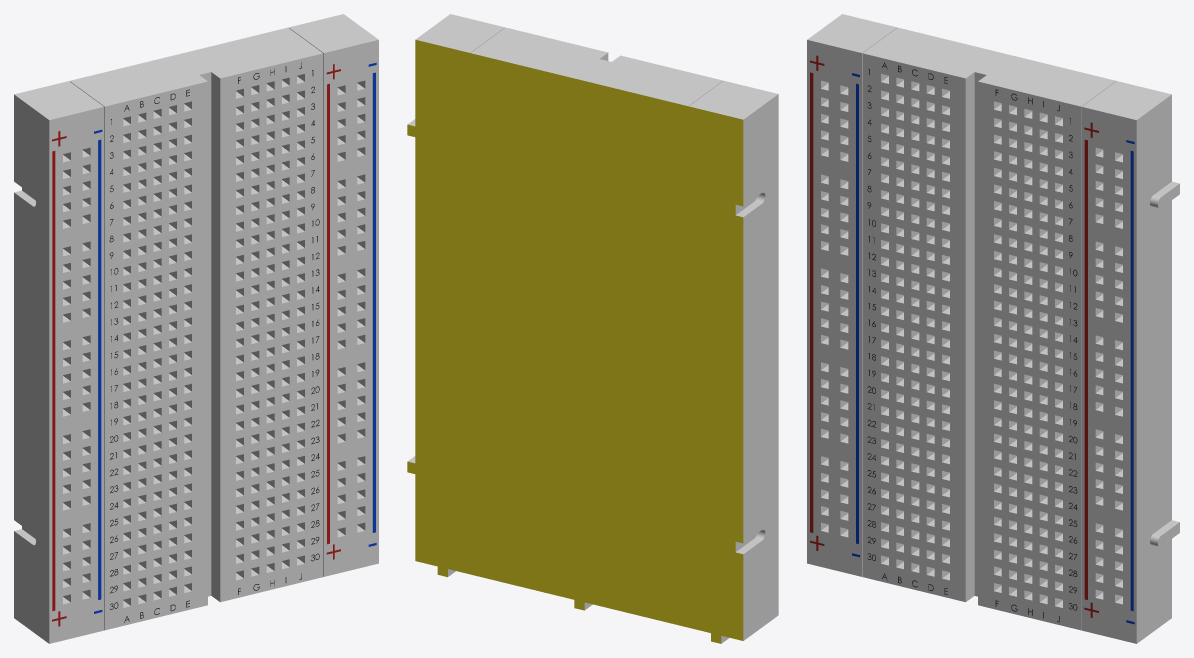
Rendered from protoboard v1.fbx.
3 views of the same model, side by side, from view 1: azimuth 30°, elevation 25°; view 2: azimuth 150°, elevation 25°; view 3: azimuth 330°, elevation 25° (orthographic).
Parts seen in each view (by area): view 1: Body1; view 2: Body1; view 3: Body1.
Boxes of the visible parts, left/top/right/bottom form: Body1: left=14, top=14, right=378, bottom=643; Body1: left=407, top=14, right=778, bottom=643; Body1: left=807, top=14, right=1179, bottom=643.
Size of the model in its own units: 55.3 by 83.3 by 10.
